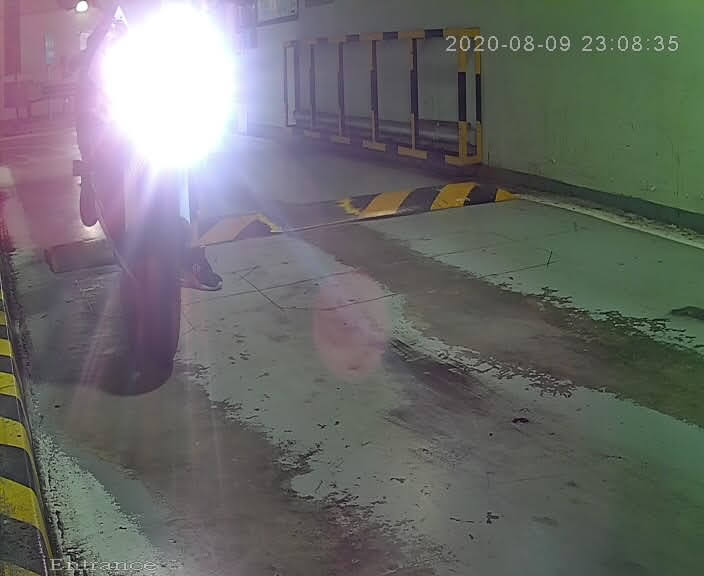motorcycle: (55, 1, 242, 371)
